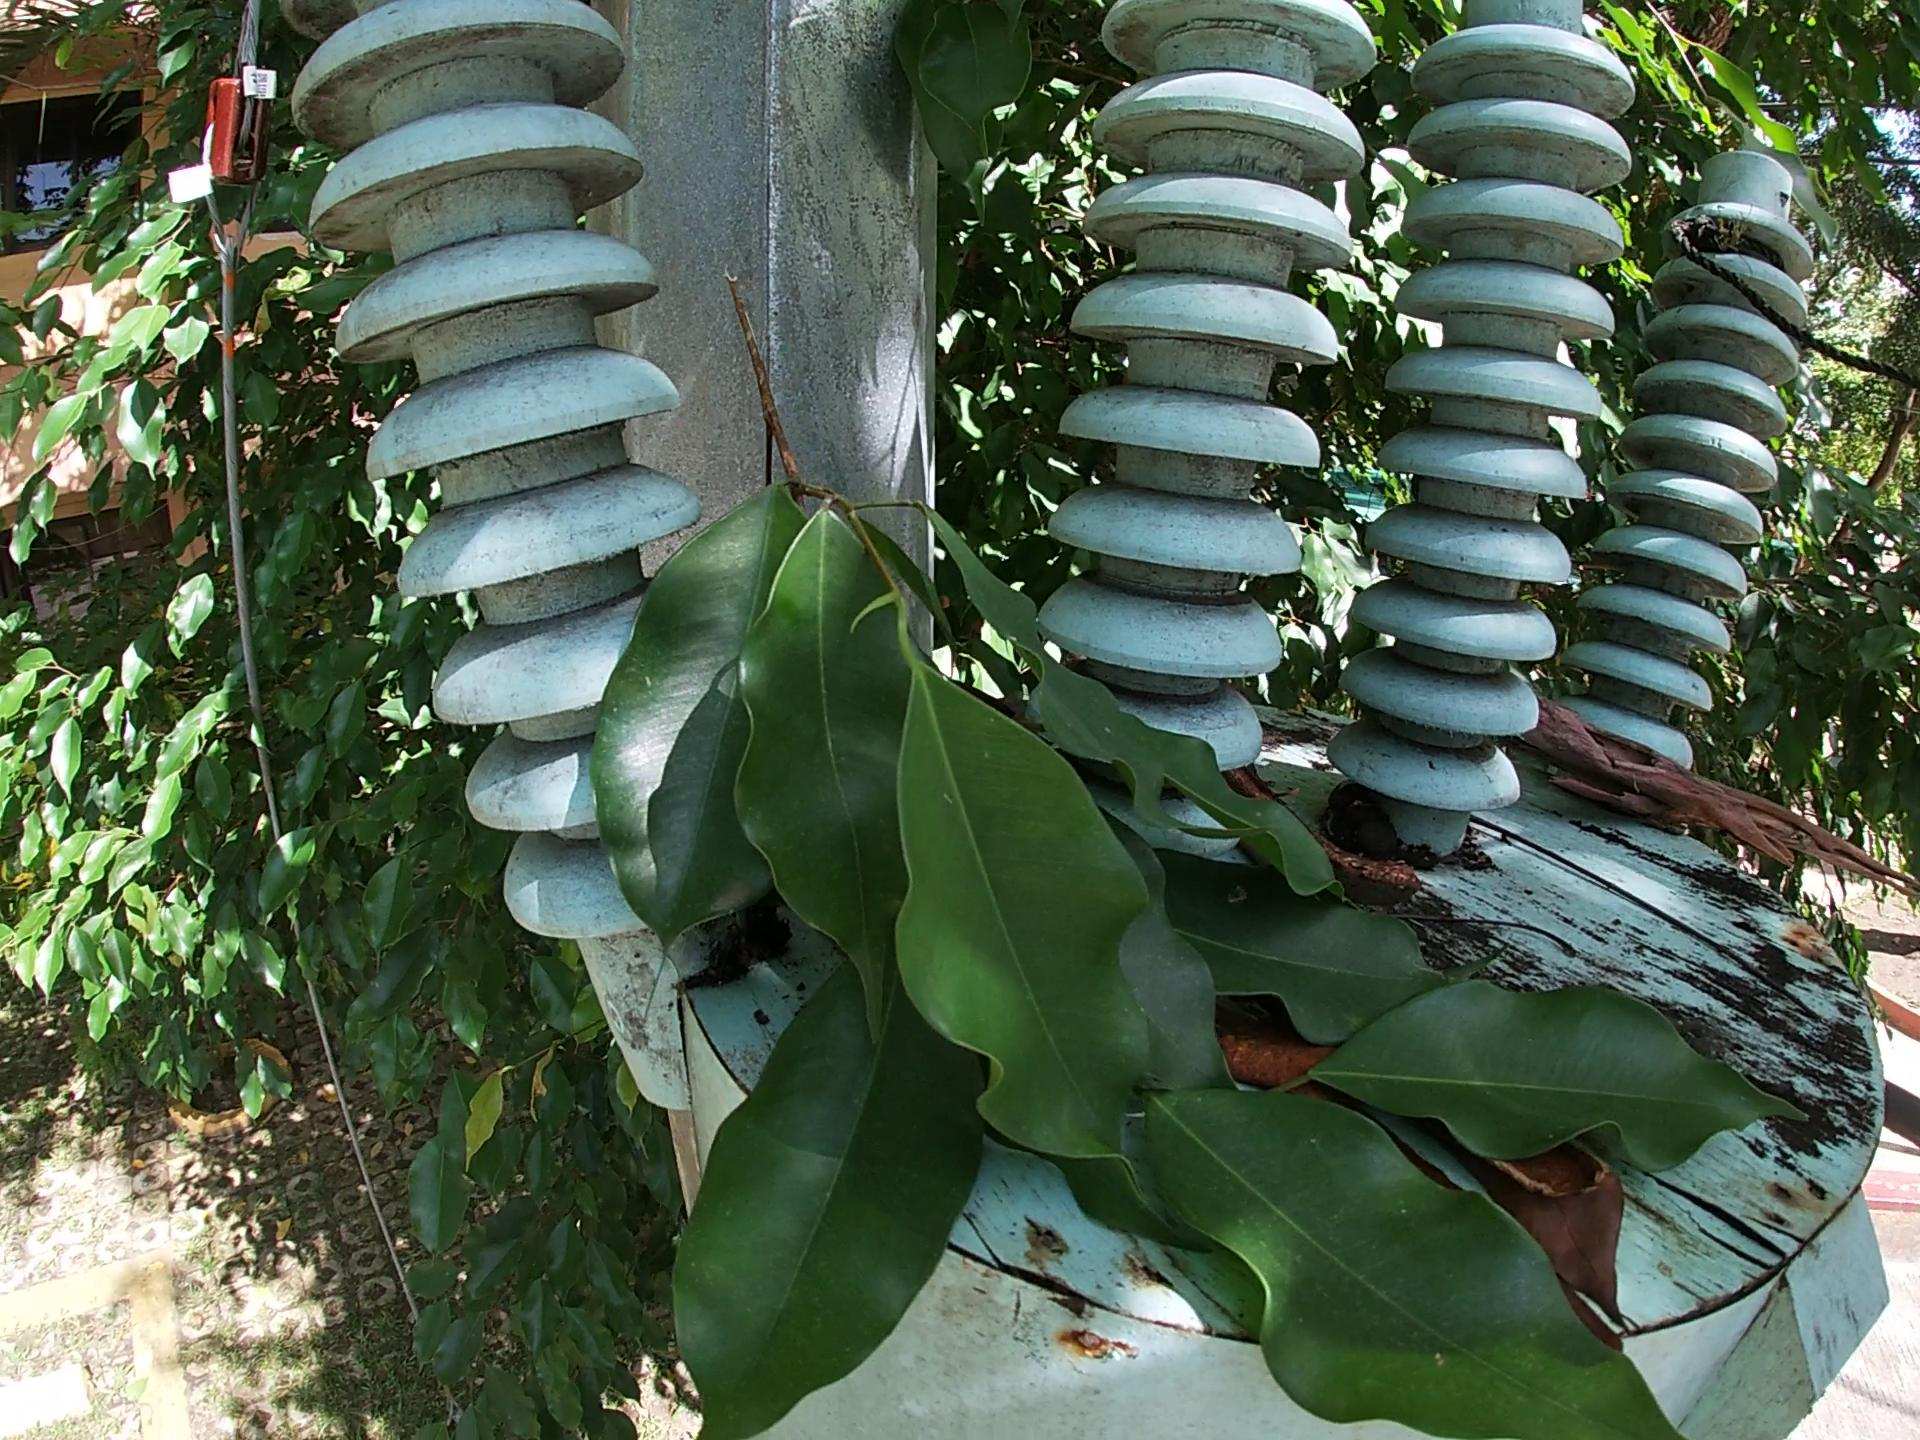branch with leaves: (571, 253, 1702, 1440)
leaf: (1477, 1165, 1649, 1330), (1215, 1026, 1309, 1091)
mahogany fruit: (1237, 756, 1438, 909), (1501, 1141, 1630, 1195)
tree branch: (1509, 690, 1920, 915), (1476, 803, 1795, 1006), (1407, 917, 1606, 976)
